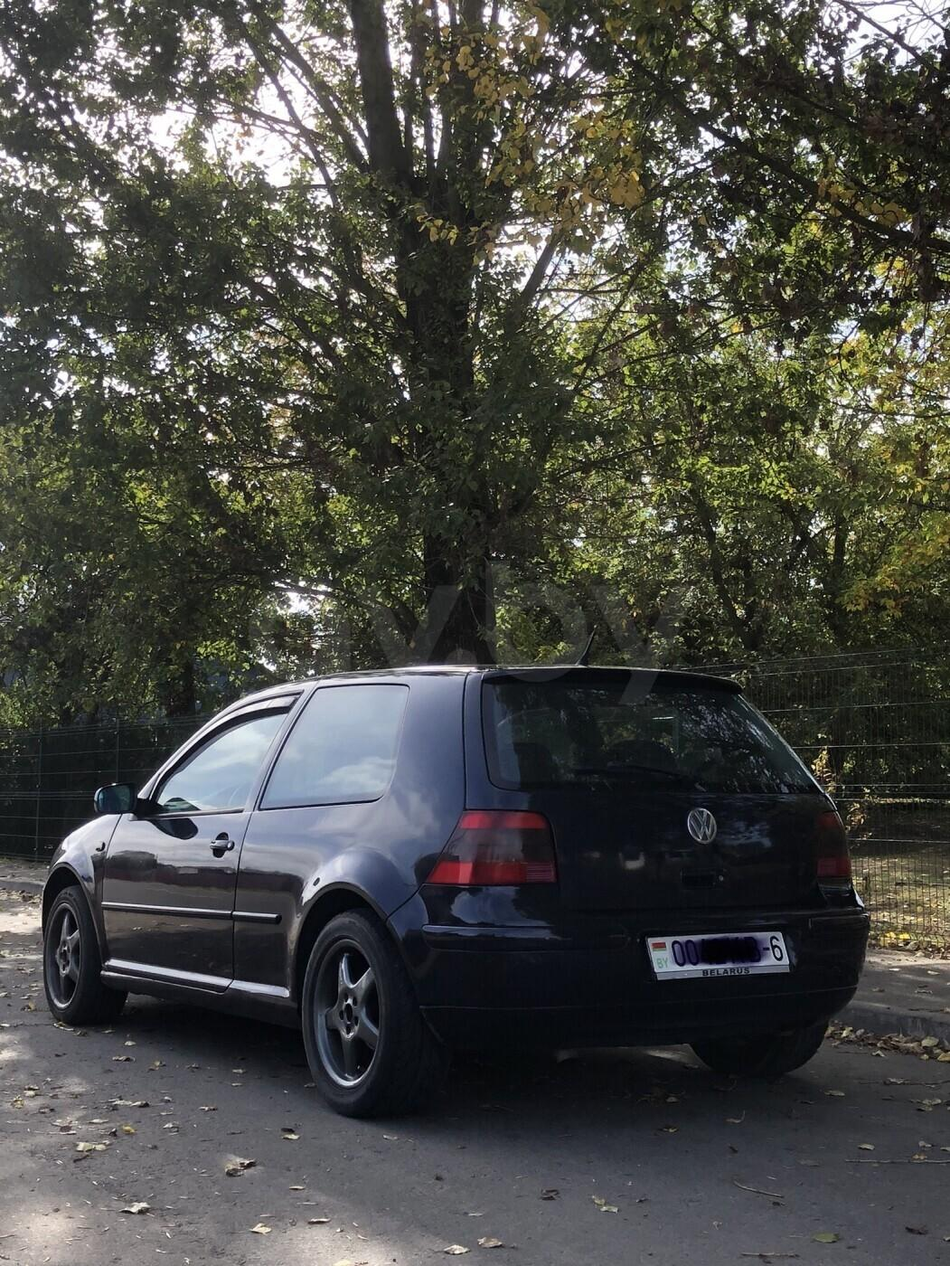Golf_1997-2006: (45, 658, 854, 1114)
